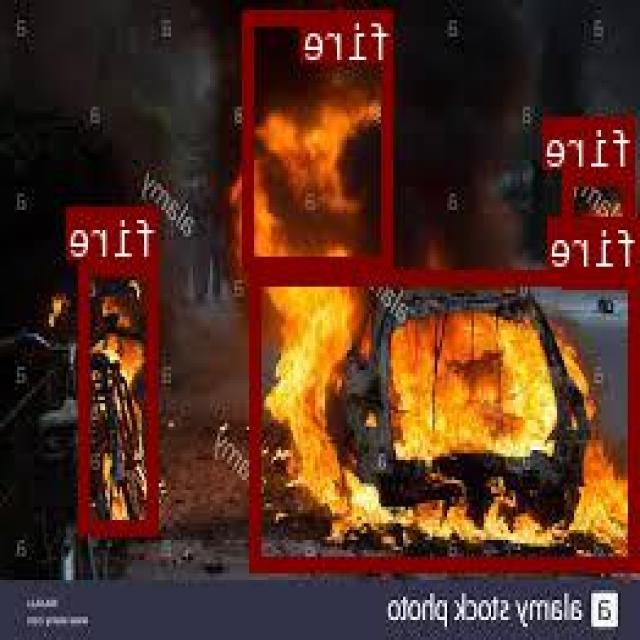fire: (252, 268, 640, 568), (247, 8, 394, 270), (81, 258, 160, 533), (566, 167, 636, 284)
